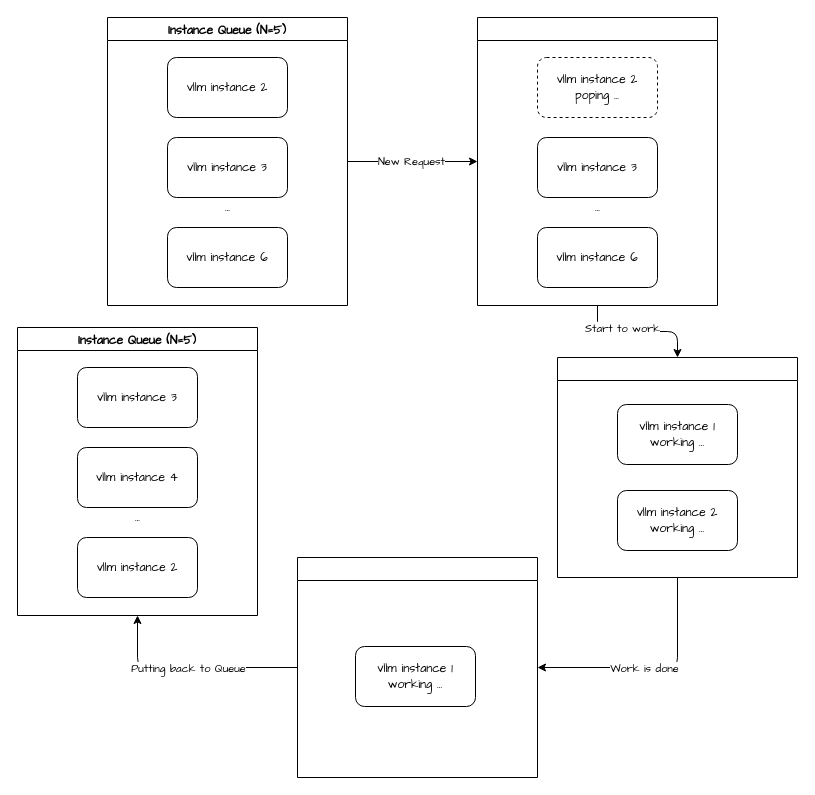
Image size: 815x795. Some labels were removed from this diagram. Here are the shapes that lost their labels. From the top down, the box of each, then its label:
(476, 16, 718, 306): Instance Queue (N=4)
(556, 356, 798, 578): Thread Pool (N=2)
(296, 556, 538, 778): Thread Pool (N=1)
